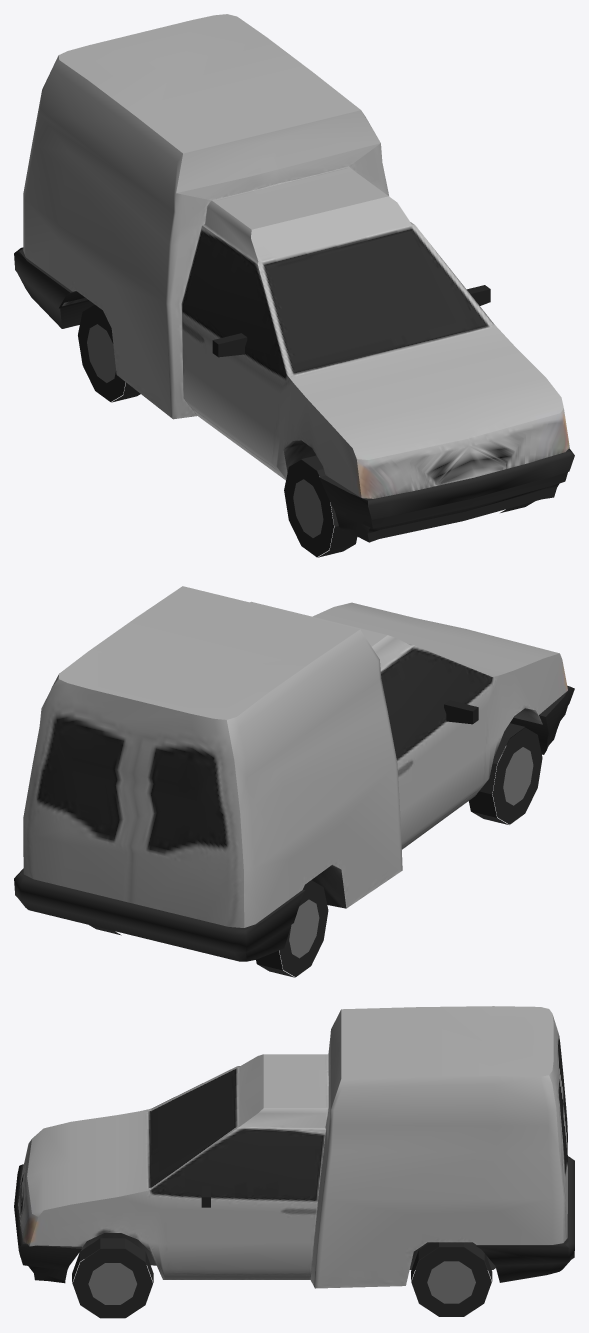
Rendered from pickup_s.glb.
The picture shows the model from 3 angles, top to bottom: view 1: azimuth 30°, elevation 25°; view 2: azimuth 150°, elevation 25°; view 3: azimuth 270°, elevation 25°; orthographic projection. The views are drawn at different scales.
Visible parts, largest first — view 1: body, trim; view 2: body, trim; view 3: body, trim.
Part boxes in pixels (x1,y1,x2,y2): body: (23,14,569,498); trim: (14,247,574,557); body: (23,586,567,927); trim: (14,686,574,977); body: (18,1006,567,1288); trim: (14,1156,574,1318).
Bounding box in the file's own units: 1.87 × 2 × 4.3.
2 materials, 1 textured.
